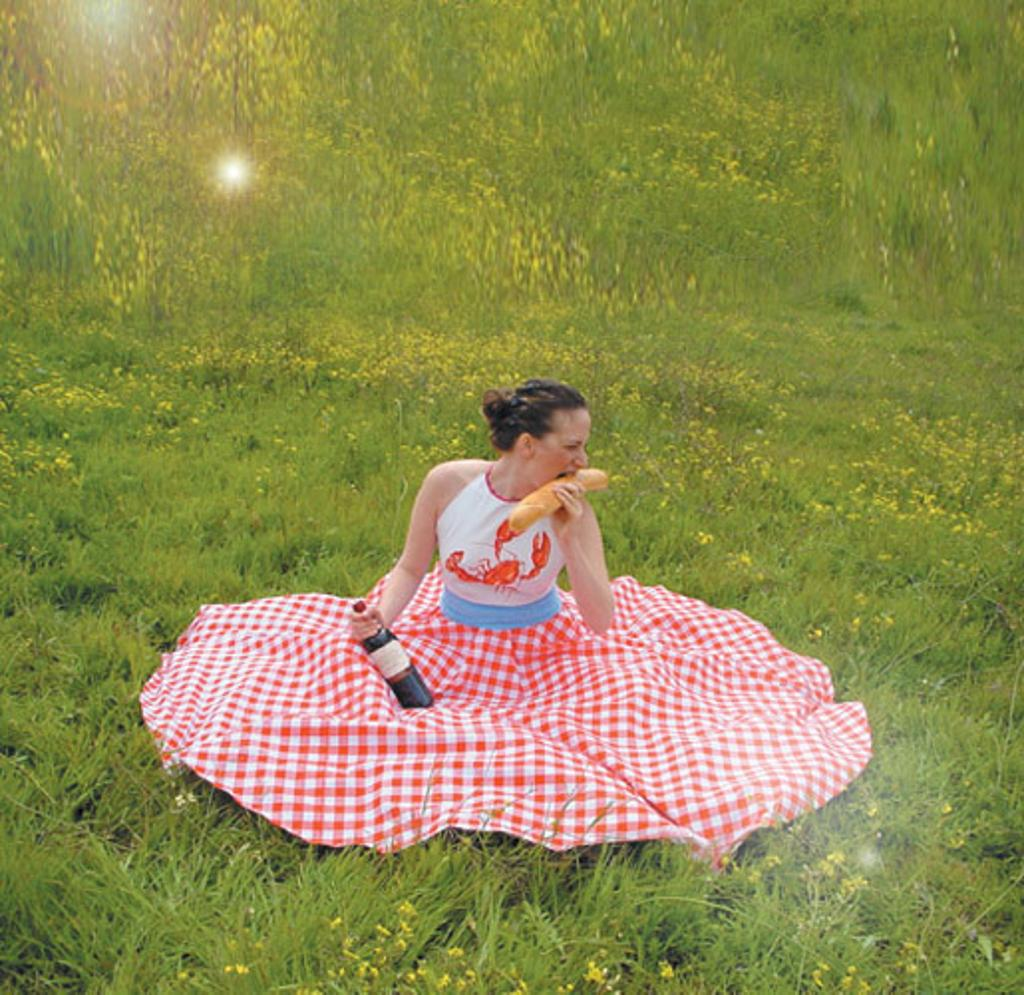face: (535, 415, 592, 495)
